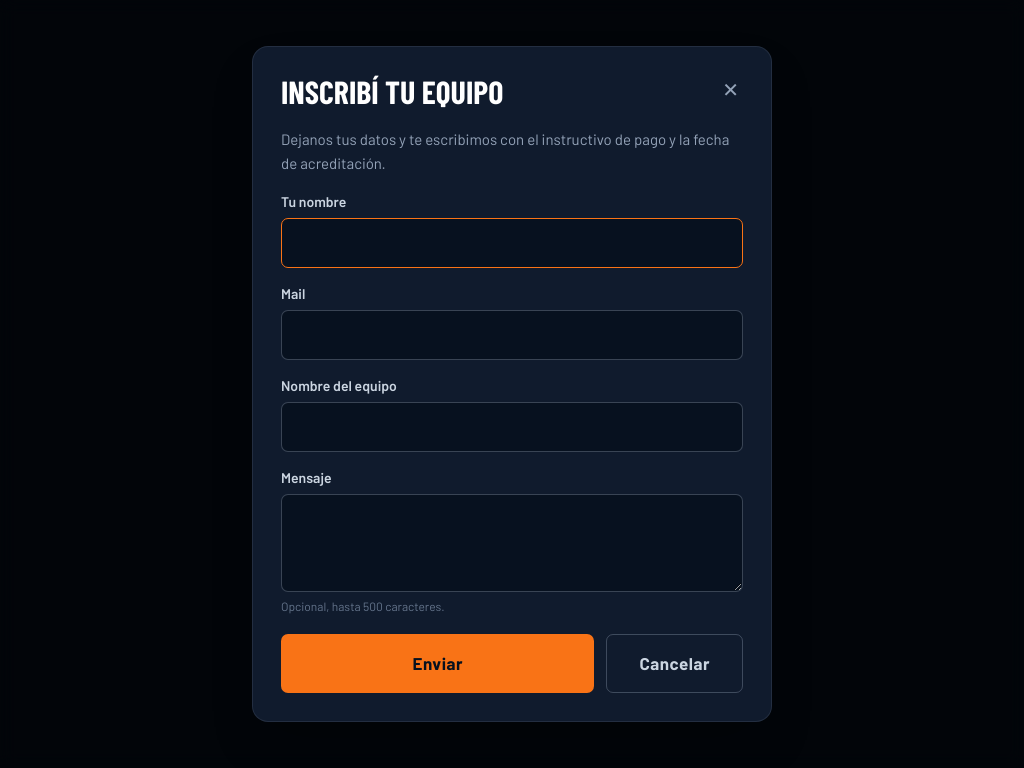
it: RegistrationModal › confirma con los datos cargados y aclara que no hay envío automático
Type "Emiliano" into the field labelled "Tu nombre" at coordinates (512, 243), box [281,218,743,268]
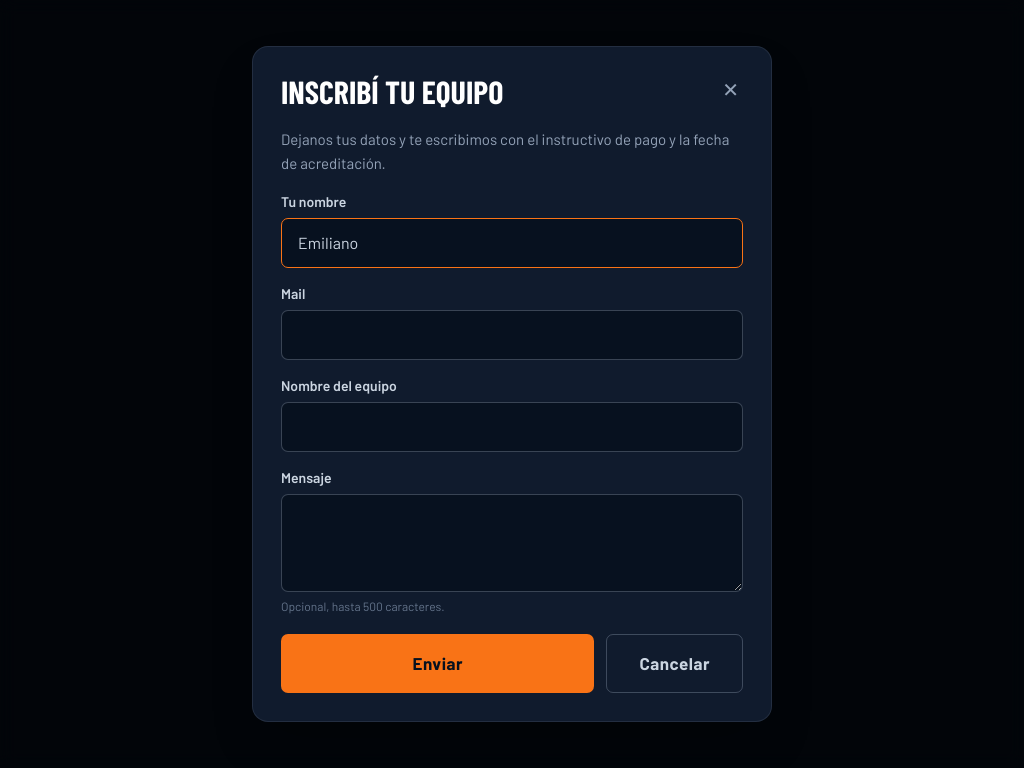
Type "emi@liba.com.ar" into the field labelled "Mail" at coordinates (512, 335), box [281,310,743,360]
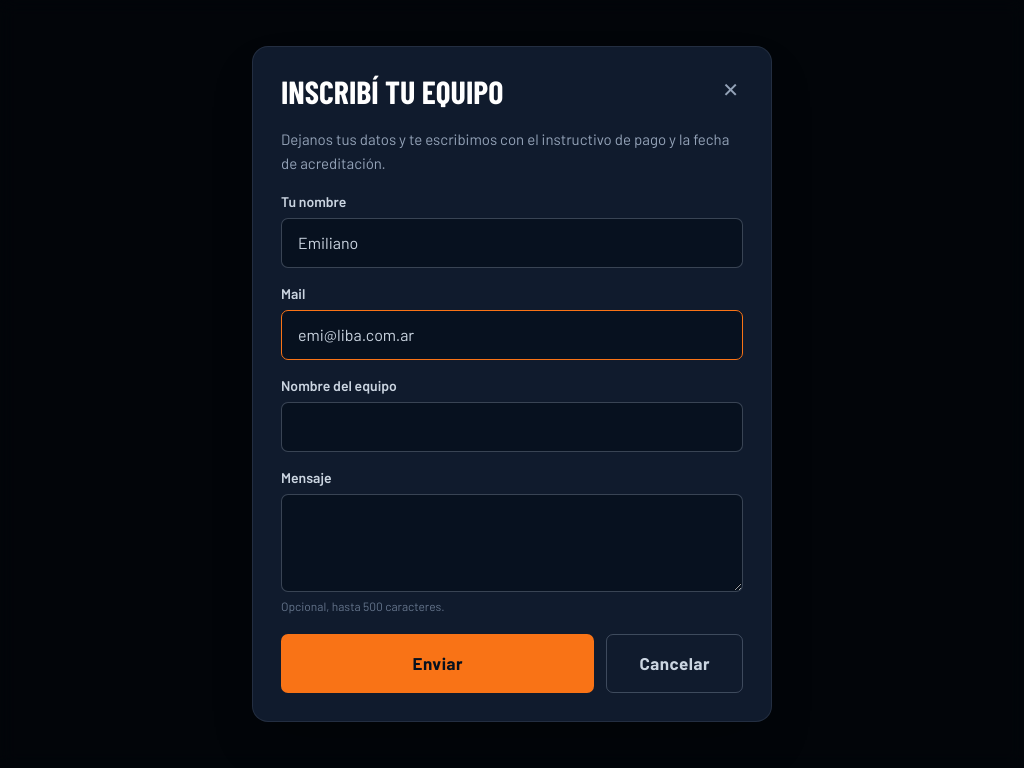
Type "Los Halcones" into the field labelled "Nombre del equipo" at coordinates (512, 427), box [281,402,743,452]
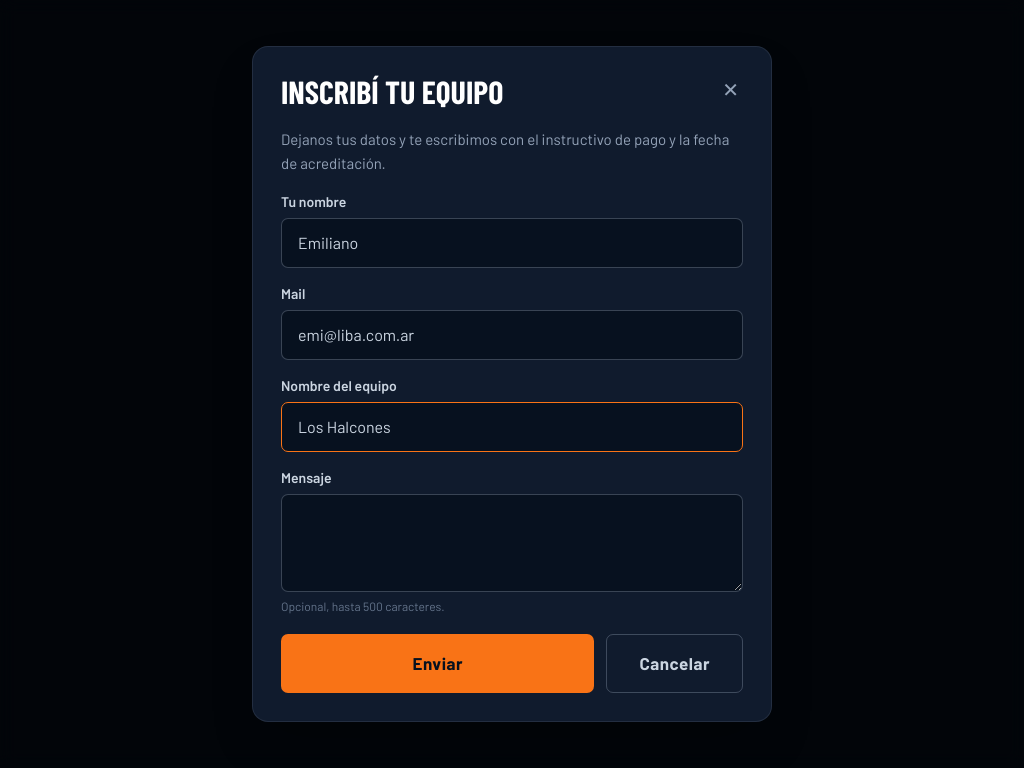
Click the button "Enviar" at coordinates (438, 663), box [281,634,594,693]
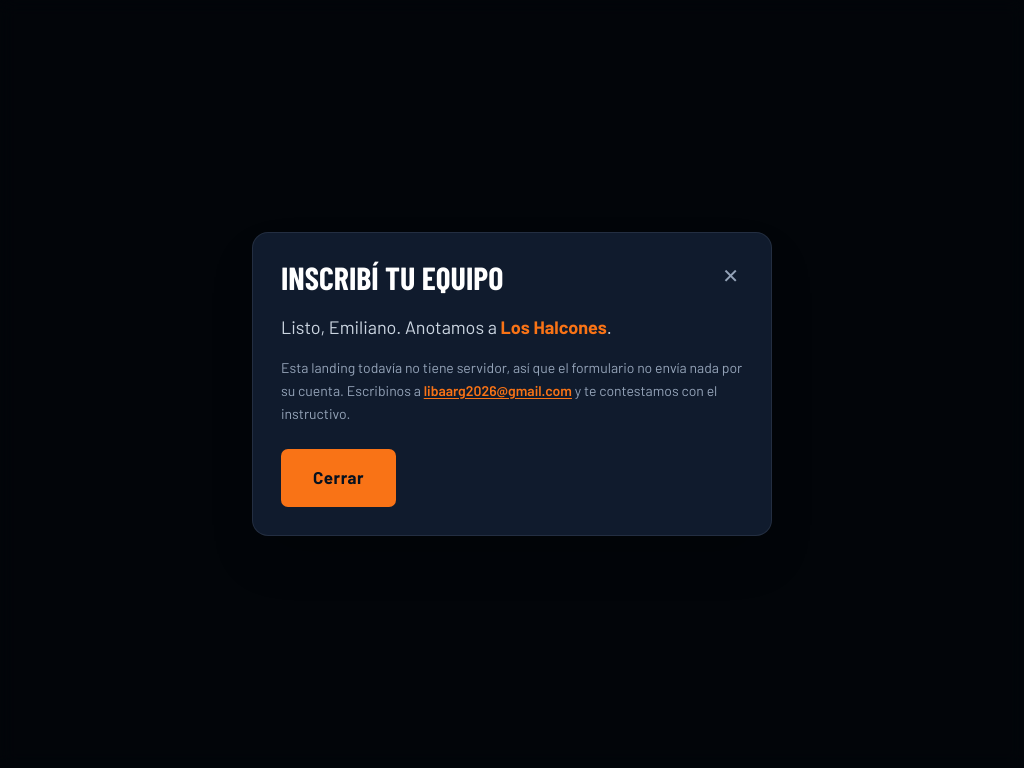
Check: the text "Listo, Emiliano. Anotamos a Los Halcones." is shown, box [281,313,612,341]
Check: the text "Los Halcones" is shown, box [500,316,607,338]
Check: the text "no envía nada por su cuenta" is shown, box [281,359,742,399]
